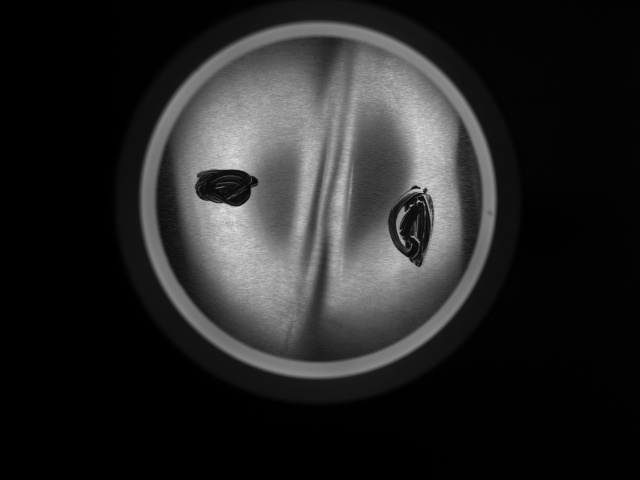zang_wu: (386, 183, 438, 271), (193, 165, 262, 208)
zhe_zhou: (195, 71, 443, 329)
